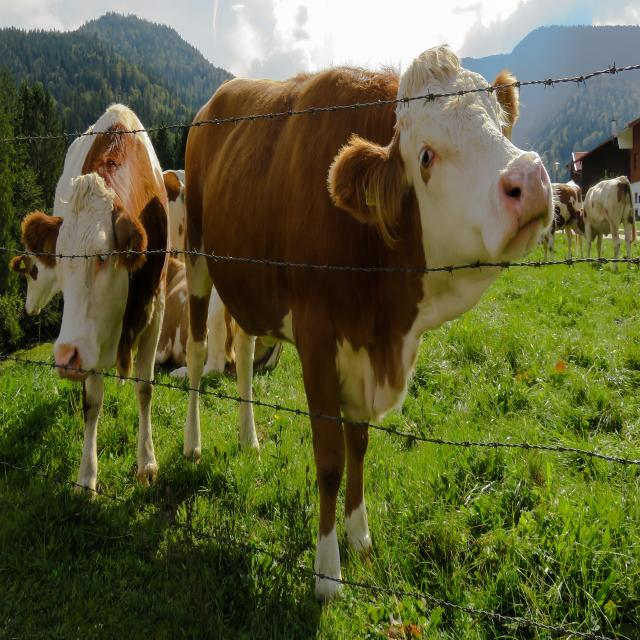cow: (180, 68, 541, 508), (14, 72, 172, 492), (567, 155, 639, 320), (532, 133, 586, 290)
